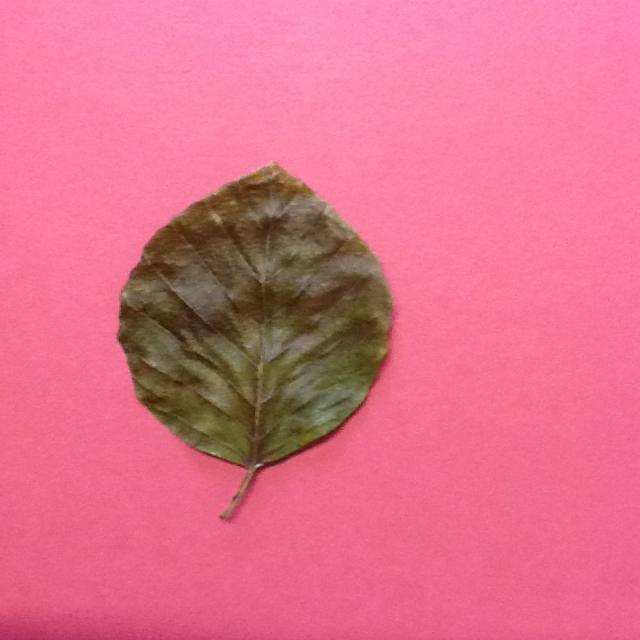foliage: (120, 164, 397, 522)
